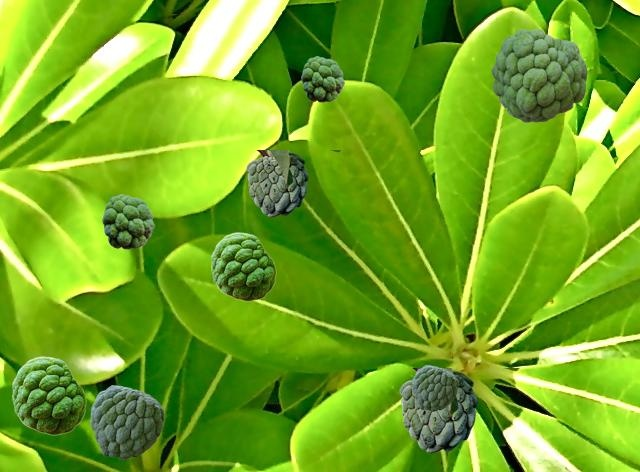atis: (399, 368, 518, 452), (491, 29, 586, 121), (246, 150, 340, 216), (12, 356, 85, 434), (90, 385, 163, 458), (211, 232, 275, 300), (102, 194, 153, 248), (412, 365, 457, 410), (301, 56, 343, 101)
